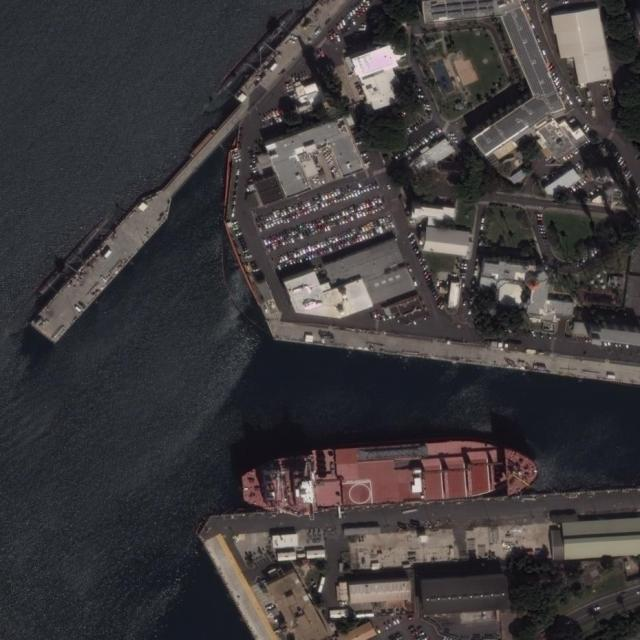Cargo: (237, 432, 540, 520)
Dock: (30, 113, 245, 340)
Submarine: (211, 6, 297, 97), (34, 216, 109, 299)
